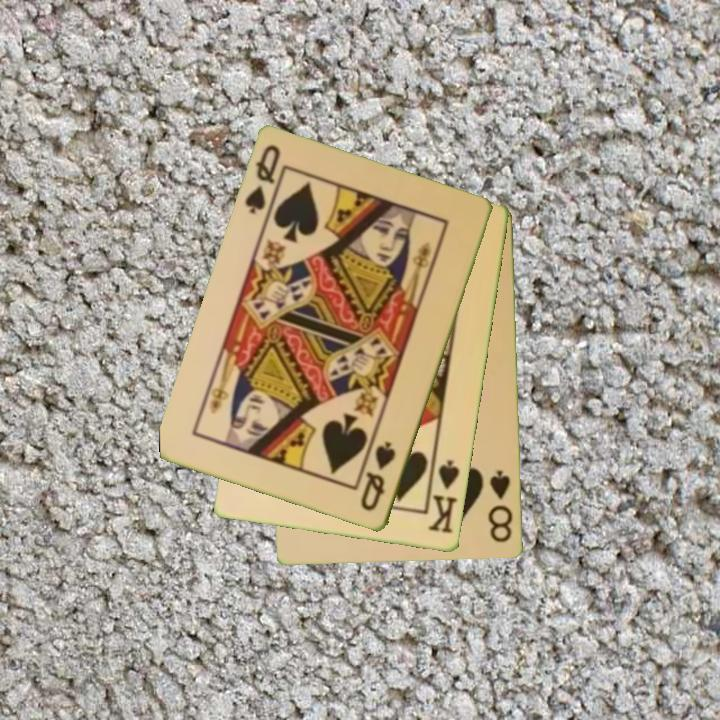8s: (485, 467, 516, 545)
Ks: (424, 455, 463, 537)
Qs: (357, 438, 399, 515), (242, 141, 284, 218)
